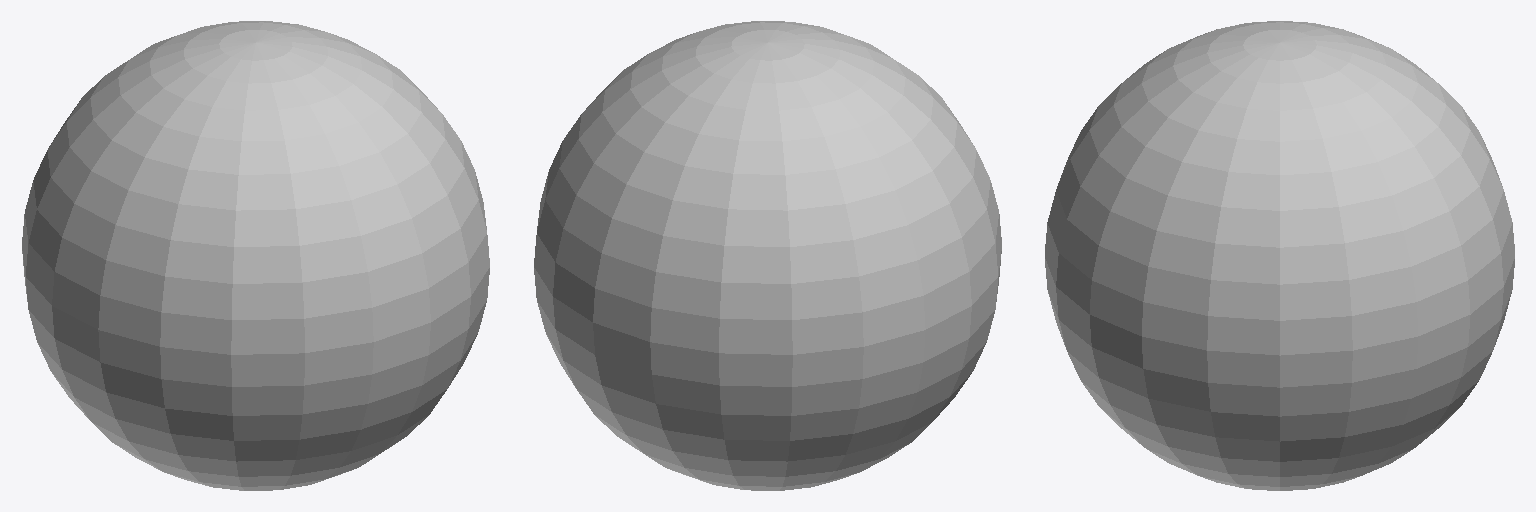
The model's file is joint.obj.
3 views of the same model, side by side, from view 1: azimuth 30°, elevation 25°; view 2: azimuth 150°, elevation 25°; view 3: azimuth 270°, elevation 25° (orthographic).
Parts seen in each view (by area): view 1: R_arm_joint4; view 2: R_arm_joint4; view 3: R_arm_joint4.
Boxes of the visible parts, box(x1,y1,x2,y2) form: R_arm_joint4: box(22, 21, 489, 490); R_arm_joint4: box(534, 21, 1001, 490); R_arm_joint4: box(1045, 21, 1514, 490).
Bounding box in the file's own units: 0.3369 × 0.3369 × 0.3369.